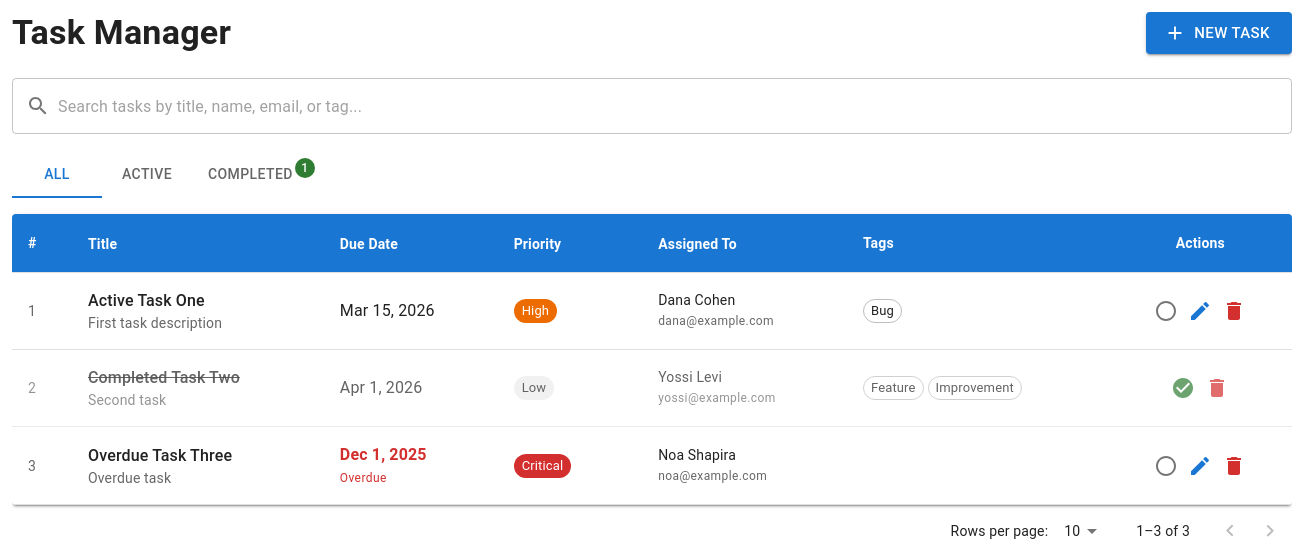
it: TaskList › filters to only active tasks when Active tab is clicked
expect the text "Active Task One" is shown: met, box x1=88 y1=290 x2=205 y2=310
Step 1. Click the tab "Active" → (147, 174), box x1=102 y1=150 x2=192 y2=198
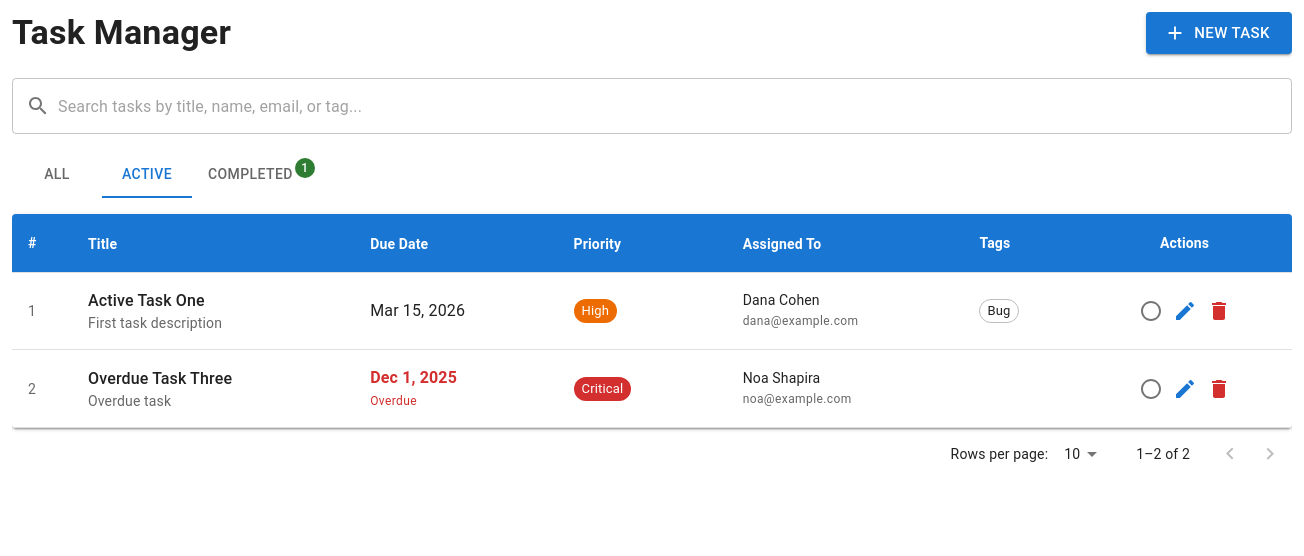
expect the text "Active Task One" is shown: met, box x1=88 y1=290 x2=205 y2=310
expect the text "Completed Task Two" is gone: met
